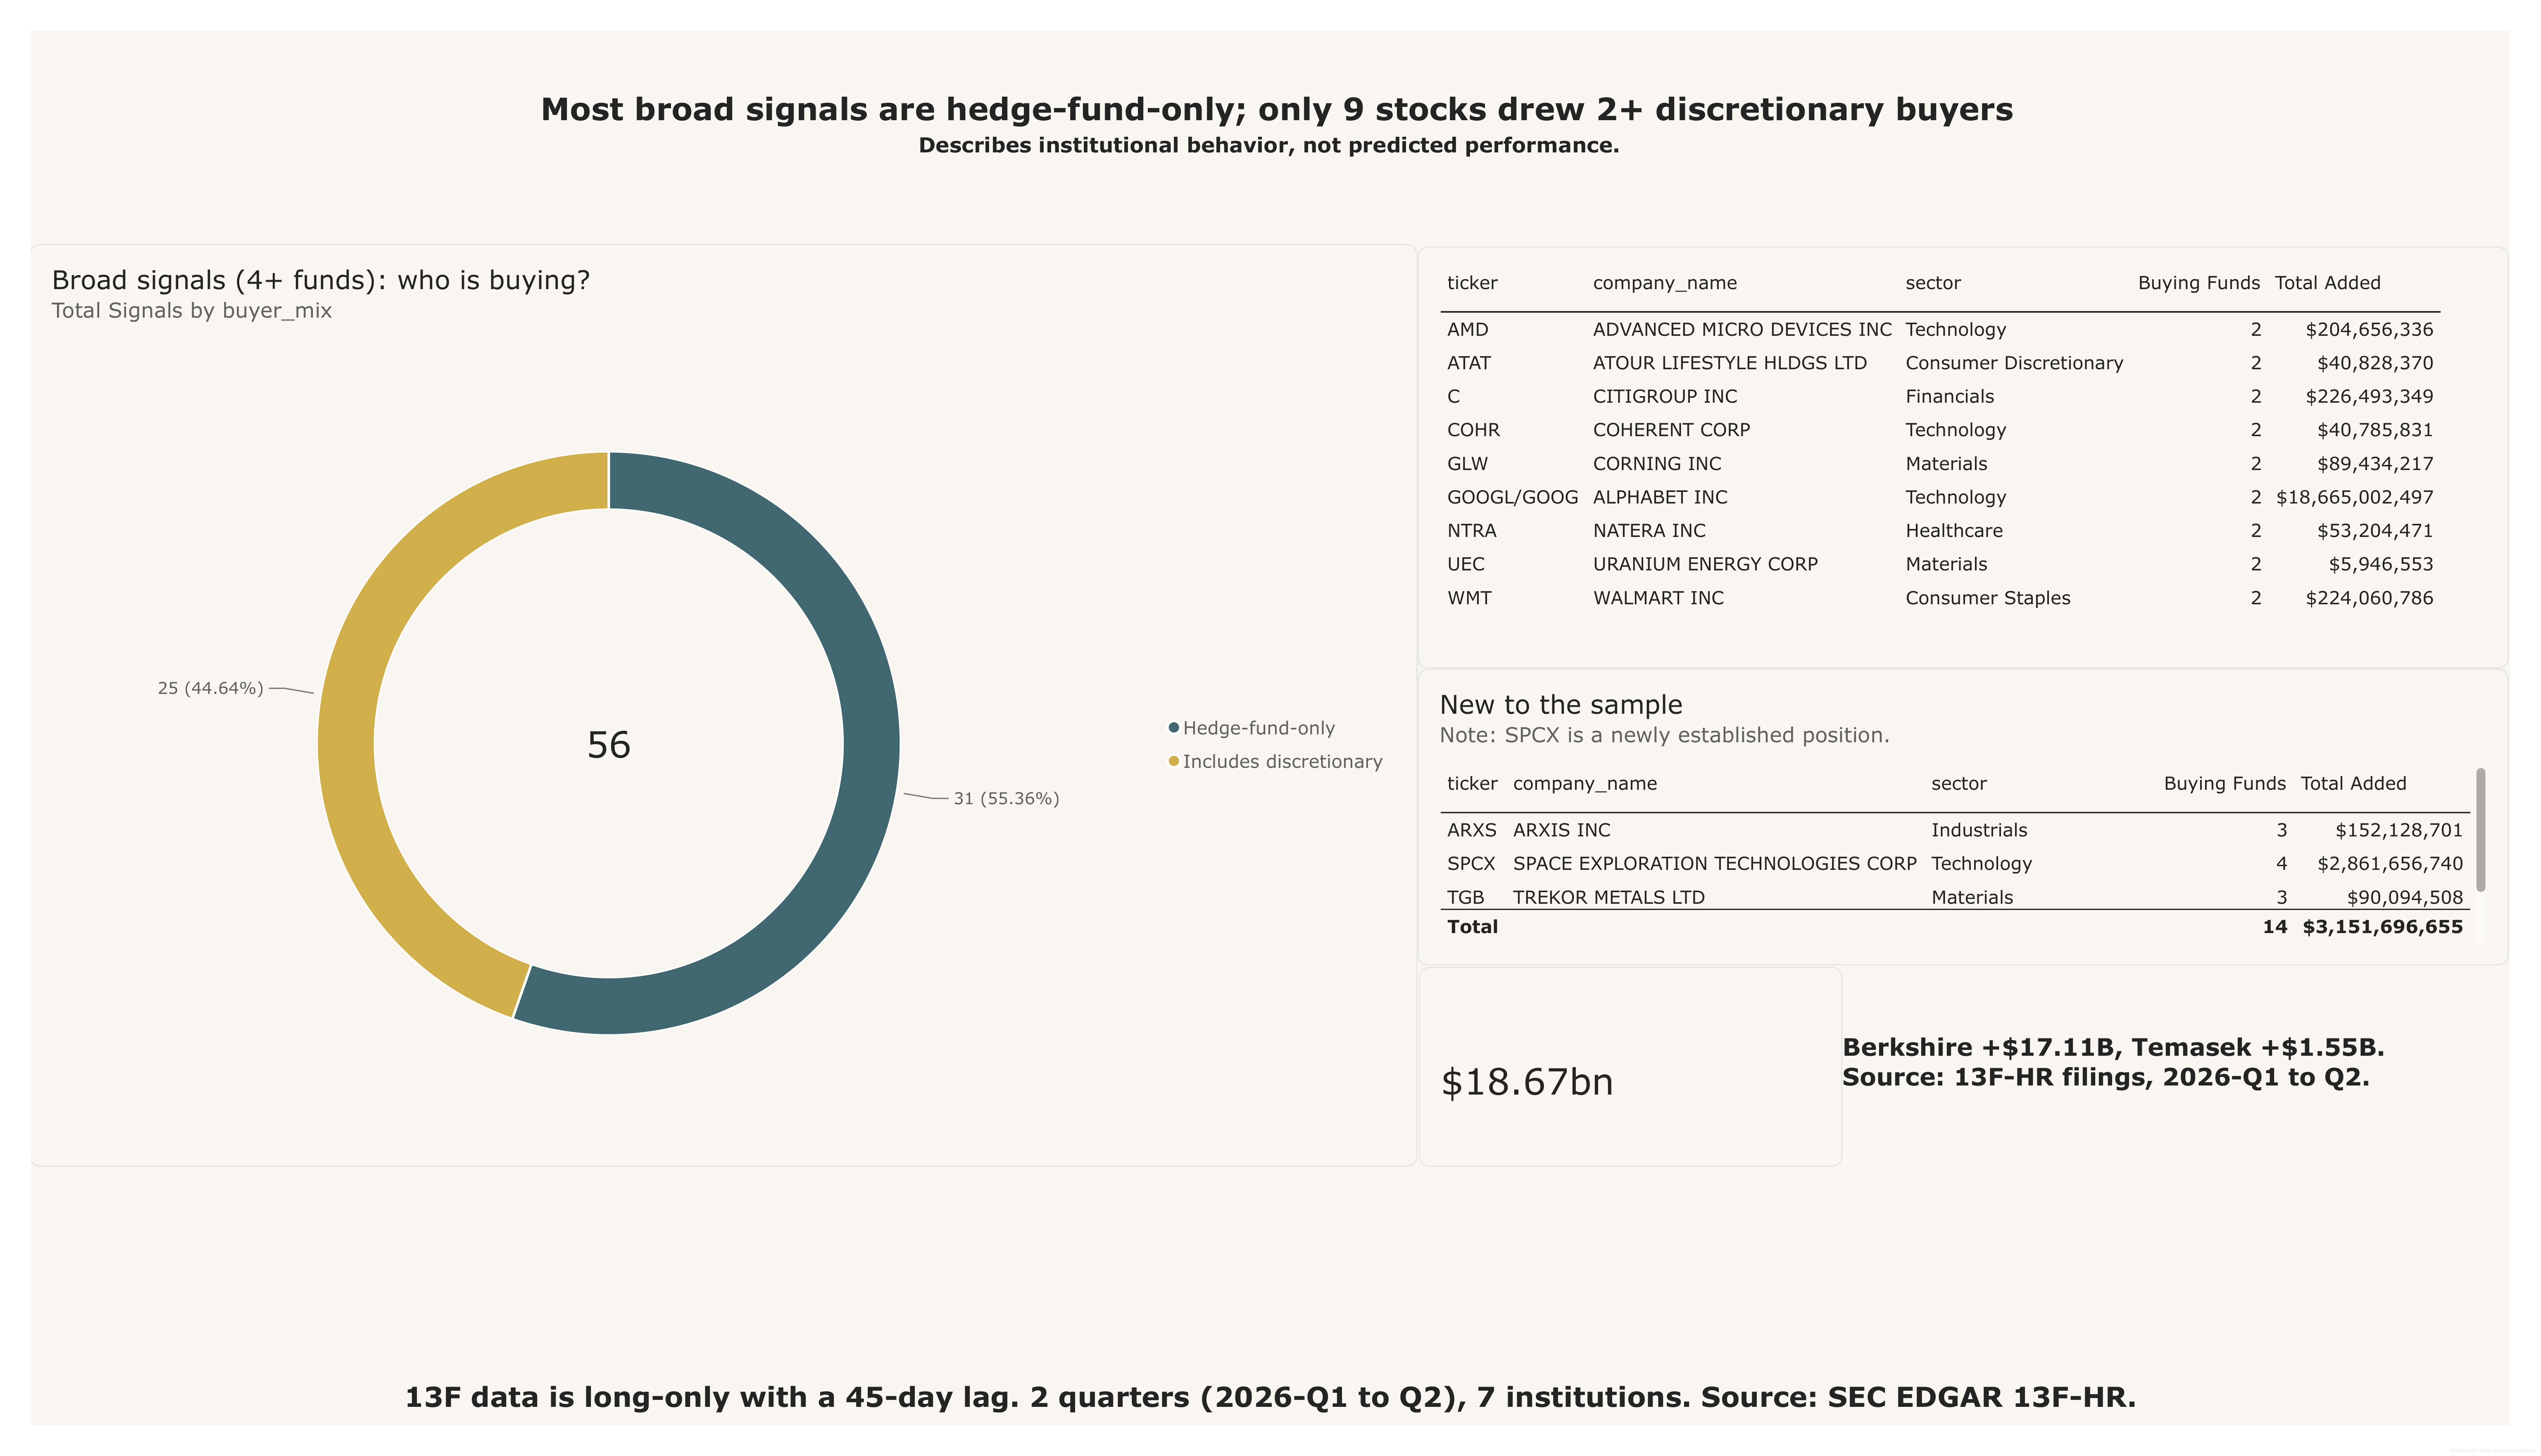

What the dashboard file says about the page in this screenshot:
{"tool":"powerbi","page":{"name":"Page 2","canvas":[1920,1080],"ordinal":1},"visuals":[{"type":"textbox","box":[9.9,45.1,1910.1,63.8],"z":0},{"type":"donutChart","title":"Broad signals (4+ funds): who is buying?","fields":{"Category":["convergence_signals.buyer_mix"],"Y":["convergence_signals.Total Signals"]},"box":[-0.9,165,1075,715],"z":1000},{"type":"cardVisual","fields":{"Data":["Sum(discretionary_signals.total_dollars_added)"]},"box":[1075,725,327.5,155],"z":2000},{"type":"textbox","box":[1402.5,775,445,57.5],"z":3000},{"type":"tableEx","fields":{"Values":["discretionary_signals.ticker","discretionary_signals.company_name","discretionary_signals.sector","Sum(discretionary_signals.funds_buying)","Sum(discretionary_signals.total_dollars_added)"]},"box":[1074.1,167,845,327.5],"z":4000},{"type":"tableEx","title":"New to the sample","fields":{"Values":["new_positions_signals.ticker","new_positions_signals.company_name","new_positions_signals.sector","Sum(new_positions_signals.funds_buying)","Sum(new_positions_signals.total_dollars_added)"]},"box":[1074.1,494.5,845,230],"z":5000},{"type":"textbox","box":[3.7,77.6,1910.2,30.6],"z":6000},{"type":"textbox","box":[0,1045,1920,35],"z":6001}]}

Visuals, with their boxes on the page's 1920x1080 design canvas (x1, y1, x2, y2). These are canvas units, not pixel positions in the 2541x1456 screenshot, which may show the page scaled, cropped or inside an application window:
textbox: 10 45 1920 109
"Broad signals (4+ funds): who is buying?" donutChart: -1 165 1074 880
cardVisual - Sum(discretionary_signals.total_dollars_added): 1075 725 1402 880
textbox: 1402 775 1848 832
tableEx - discretionary_signals.ticker x discretionary_signals.company_name: 1074 167 1919 494
"New to the sample" tableEx: 1074 494 1919 724
textbox: 4 78 1914 108
textbox: 0 1045 1920 1080
